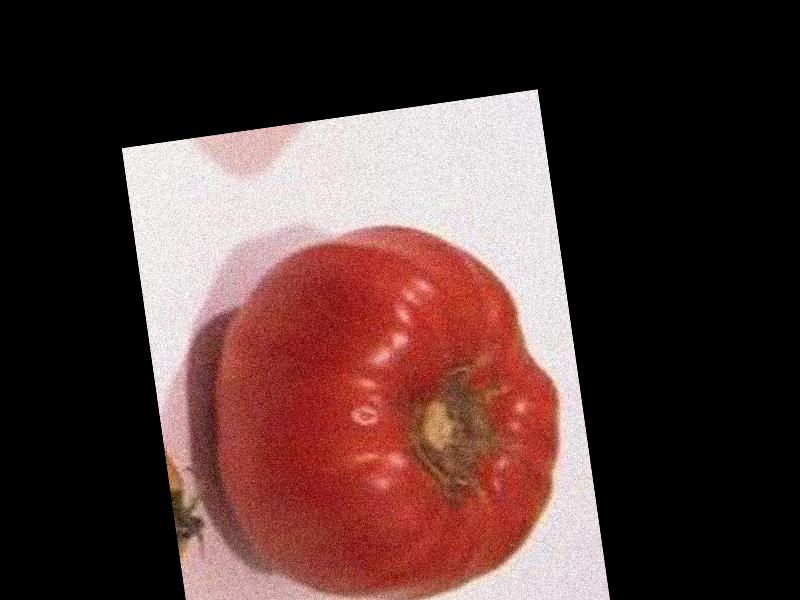Tomato: (194, 209, 581, 600)
